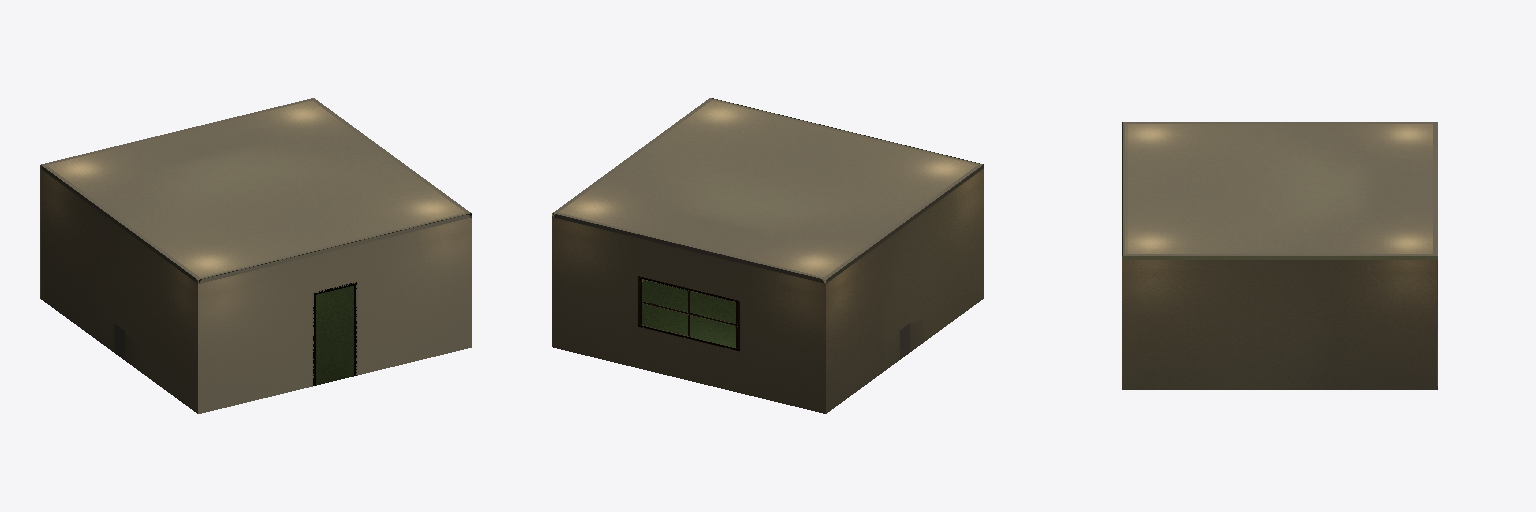
3 renders of one model, left to right at view 1: azimuth 30°, elevation 25°; view 2: azimuth 150°, elevation 25°; view 3: azimuth 270°, elevation 25°, orthographic.
Visible parts, largest first — view 1: Room_Plane.017; view 2: Room_Plane.017; view 3: Room_Plane.017.
Boxes of the visible parts, x1=… form: Room_Plane.017: x1=40, y1=98, x2=471, y2=413; Room_Plane.017: x1=552, y1=98, x2=983, y2=413; Room_Plane.017: x1=1122, y1=122, x2=1437, y2=389.
Bounding box in the file's own units: 8 × 3.75 × 8.01.
14 materials, 1 textured.